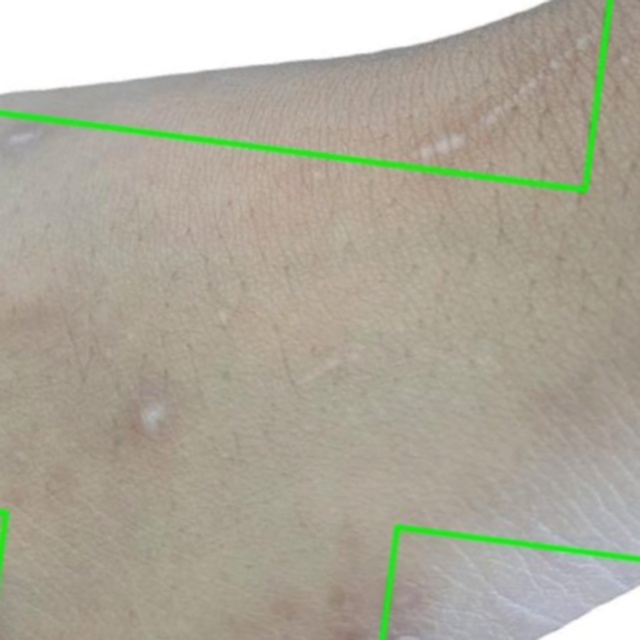Scabies: (0, 0, 610, 189)
